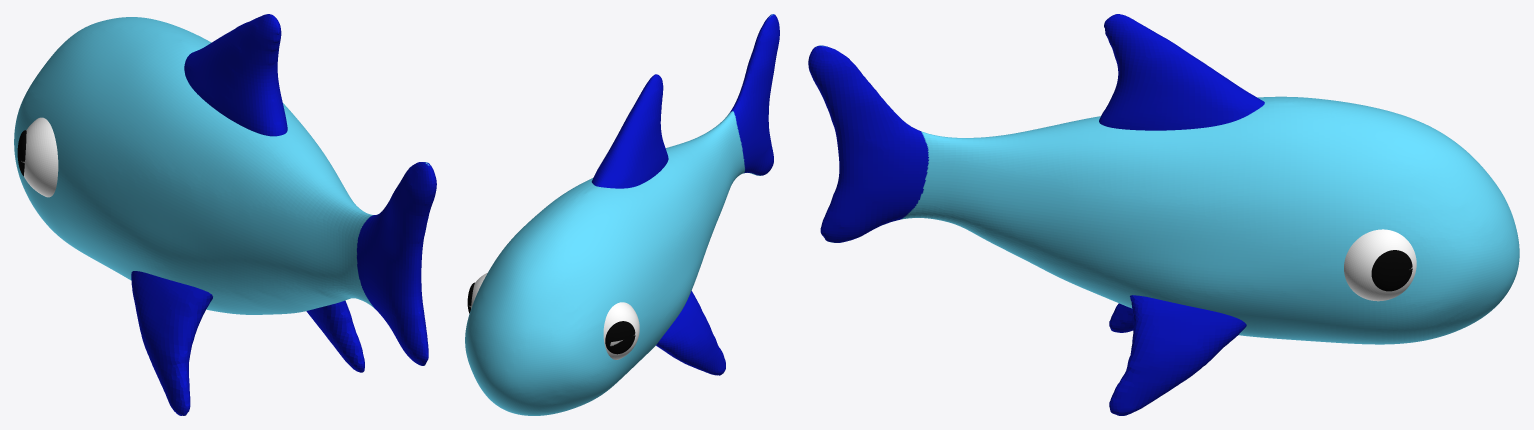
The model's file is petfish_v31.fbx.
3 views of the same model, side by side, from view 1: azimuth 30°, elevation 25°; view 2: azimuth 150°, elevation 25°; view 3: azimuth 270°, elevation 25° (orthographic). The views are drawn at different scales.
Visible parts, largest first — view 1: body, eye_L; view 2: body, eye_L, pupil_L; view 3: body, eye_R, pupil_R.
Boxes of the visible parts, <box> form: body: <box>14,14,436,415</box>; eye_L: <box>24,117,58,197</box>; body: <box>465,14,779,415</box>; eye_L: <box>603,302,639,359</box>; pupil_L: <box>605,321,635,354</box>; body: <box>808,14,1519,415</box>; eye_R: <box>1344,229,1416,301</box>; pupil_R: <box>1371,250,1412,291</box>.
Bounding box in the file's own units: 157 × 258 × 462.
Materials: 1 (1 with a texture image).
